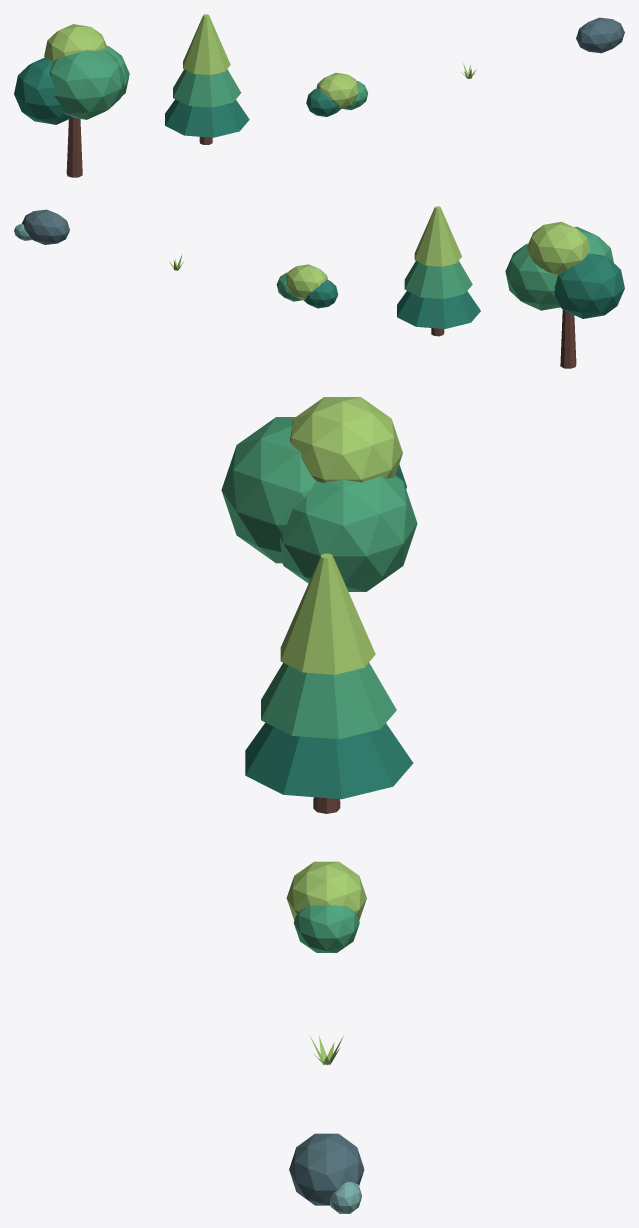
The model's file is vegetation.glb.
The picture shows the model from 3 angles, top to bottom: view 1: azimuth 30°, elevation 25°; view 2: azimuth 150°, elevation 25°; view 3: azimuth 270°, elevation 25°; orthographic projection. The views are drawn at different scales.
Visible parts, largest first — view 1: Crown.002, Pine tier, Crown, Pine tier.001, Pine tier.002, Crown.003, Stone, Bush leaves.002, Trunk, Bush leaves, Crown.001, Bush leaves.001; view 2: Crown, Crown.003, Pine tier, Crown.001, Pine tier.001, Pine tier.002, Stone, Bush leaves.002, Trunk, Bush leaves, Crown.002, Bush leaves.001; view 3: Crown.001, Pine tier, Crown.002, Pine tier.001, Crown.003, Pine tier.002, Stone, Bush leaves.002, Bush leaves.001.
Boxes of the visible parts, x1,y1,x2,y2 form: Crown.002: (49,48,124,119); Pine tier: (165,99,249,137); Crown: (14,57,72,124); Pine tier.001: (173,69,241,107); Pine tier.002: (183,14,230,75); Crown.003: (44,24,108,61); Stone: (576,17,624,53); Bush leaves.002: (316,72,358,108); Trunk: (66,117,82,177); Bush leaves: (306,88,340,116); Crown.001: (107,46,129,96); Bush leaves.001: (342,81,367,109); Crown: (554,253,624,318); Crown.003: (527,221,589,274); Pine tier: (397,291,480,328); Crown.001: (505,243,560,310); Pine tier.001: (404,261,472,298); Pine tier.002: (414,206,461,266); Stone: (21,209,69,244); Bush leaves.002: (286,264,327,300); Trunk: (560,310,576,368); Bush leaves: (304,279,338,308); Crown.002: (574,226,613,262); Bush leaves.001: (276,272,301,301); Crown.001: (279,475,417,591); Pine tier: (245,722,413,799); Crown.002: (221,417,315,563); Pine tier.001: (261,662,396,739); Crown.003: (290,397,402,482); Pine tier.002: (280,553,375,674); Stone: (289,1133,364,1205); Bush leaves.002: (286,861,366,920); Bush leaves.001: (294,905,359,952).
Size of the model in its own units: 18.41 by 4.32 by 2.6.
